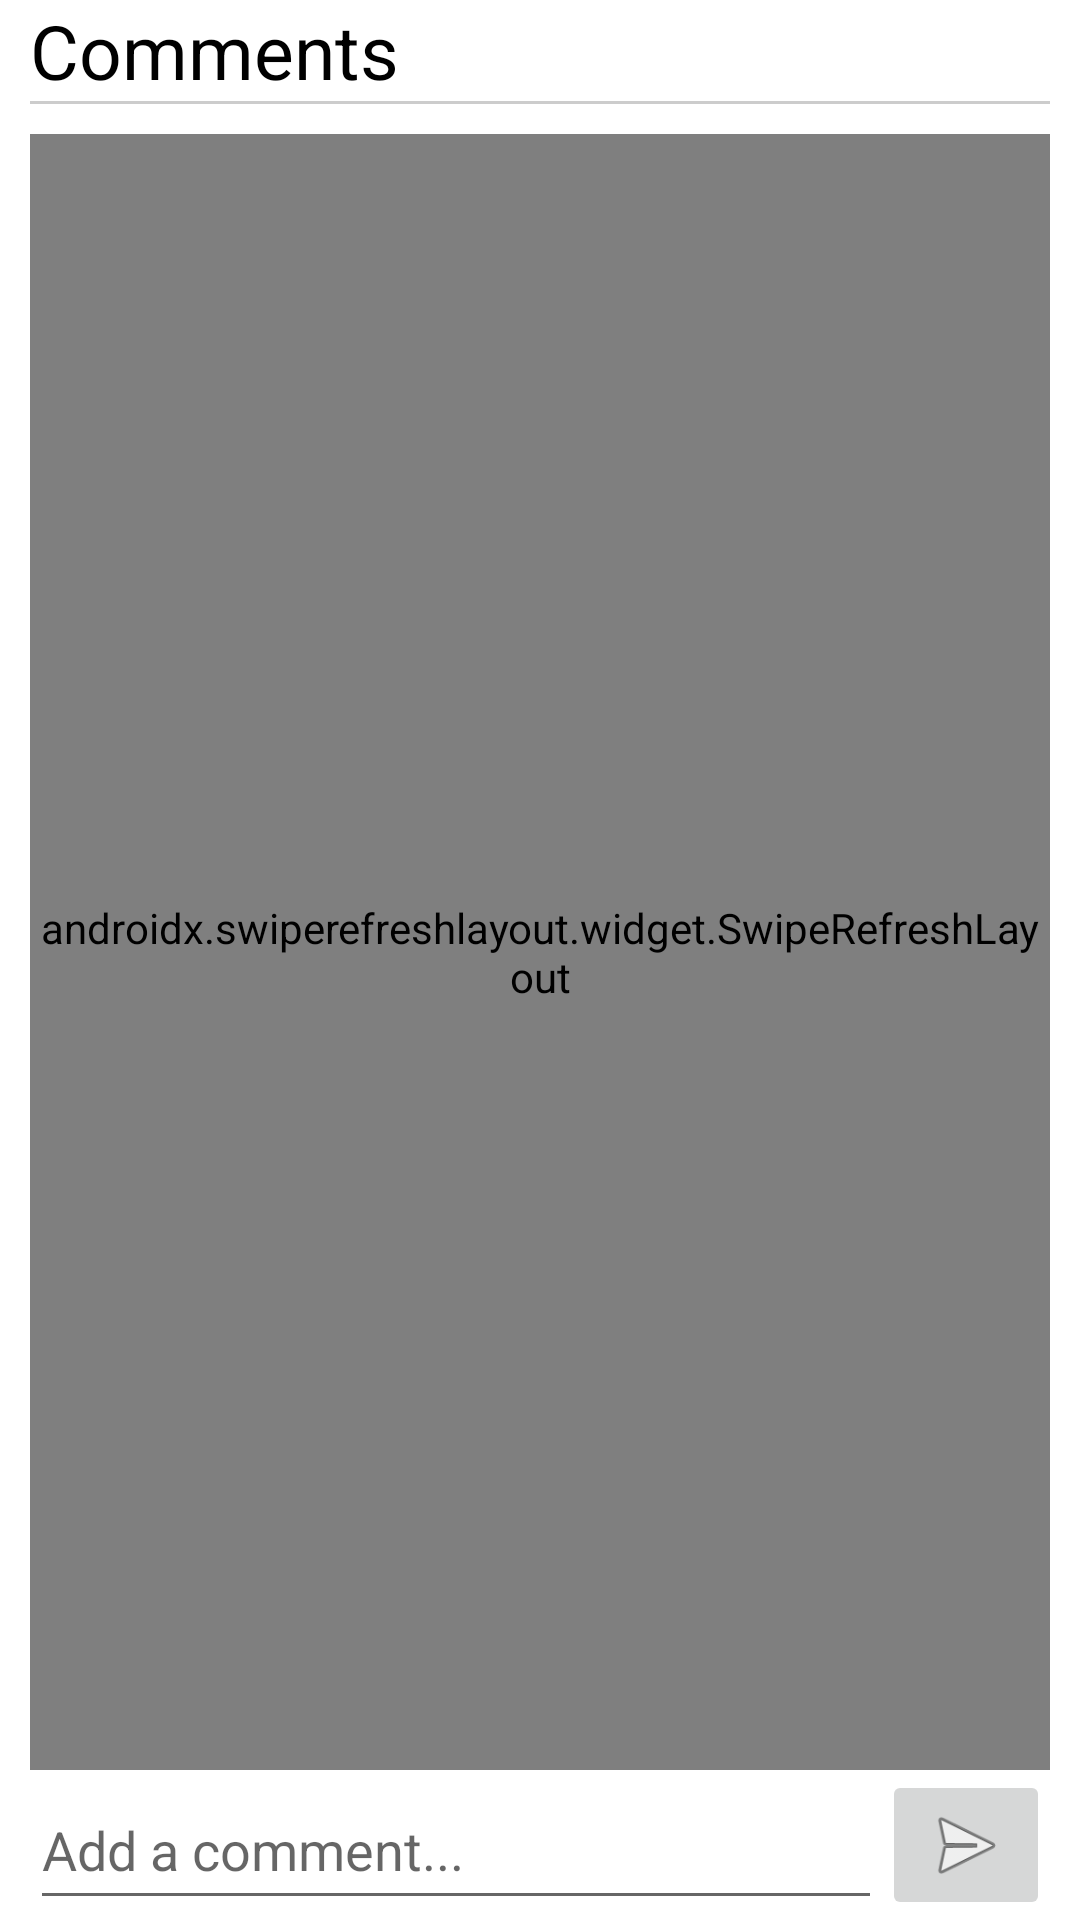

Where icons sit on this 1080px×1920px app screen, as (x1, y1, x2, y2):
send comment: (894, 1788, 1038, 1902)
